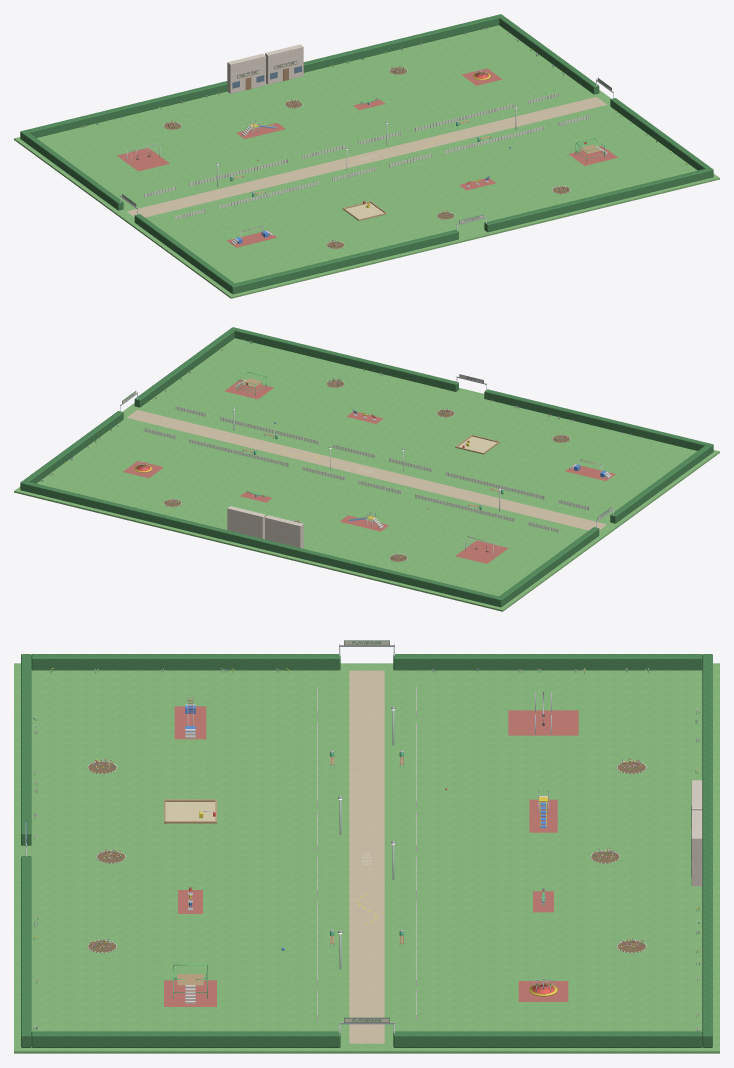
File: playground.glb
The picture shows the model from 3 angles, top to bottom: view 1: azimuth 30°, elevation 25°; view 2: azimuth 150°, elevation 25°; view 3: azimuth 270°, elevation 25°; orthographic projection. The views are drawn at different scales.
Parts seen in each view (by area): view 1: Grass, Hedge, Path, Fence_White, Rubber, Facade, Steel, Soil; view 2: Grass, Hedge, Path, Fence_White, Rubber, Facade, Steel, Soil; view 3: Grass, Hedge, Path, Rubber, Soil, Steel, Facade, Sand, Timber, Plastic_White.
Boxes of the visible parts, left/top/right/bottom form: Grass: left=14, top=25, right=719, bottom=298; Hedge: left=20, top=14, right=713, bottom=294; Path: left=127, top=97, right=606, bottom=217; Fence_White: left=144, top=92, right=589, bottom=219; Rubber: left=117, top=68, right=617, bottom=247; Facade: left=227, top=44, right=303, bottom=93; Steel: left=120, top=79, right=613, bottom=238; Soil: left=164, top=67, right=569, bottom=248; Grass: left=14, top=338, right=719, bottom=611; Hedge: left=20, top=327, right=713, bottom=607; Path: left=127, top=410, right=606, bottom=530; Fence_White: left=144, top=405, right=589, bottom=532; Rubber: left=123, top=379, right=615, bottom=563; Facade: left=227, top=506, right=303, bottom=548; Steel: left=120, top=376, right=613, bottom=557; Soil: left=164, top=380, right=569, bottom=561; Grass: left=14, top=663, right=719, bottom=1053; Hedge: left=21, top=654, right=712, bottom=1047; Path: left=349, top=670, right=384, bottom=1043; Rubber: left=164, top=706, right=578, bottom=1006; Soil: left=88, top=761, right=645, bottom=952; Steel: left=25, top=644, right=551, bottom=1033; Facade: left=691, top=780, right=702, bottom=886; Sand: left=165, top=802, right=215, bottom=820; Timber: left=164, top=756, right=403, bottom=985; Plastic_White: left=87, top=704, right=646, bottom=1003.
Size of the model in its own units: 104 by 6.3 by 80.
Materials: 35 (8 with a texture image).
